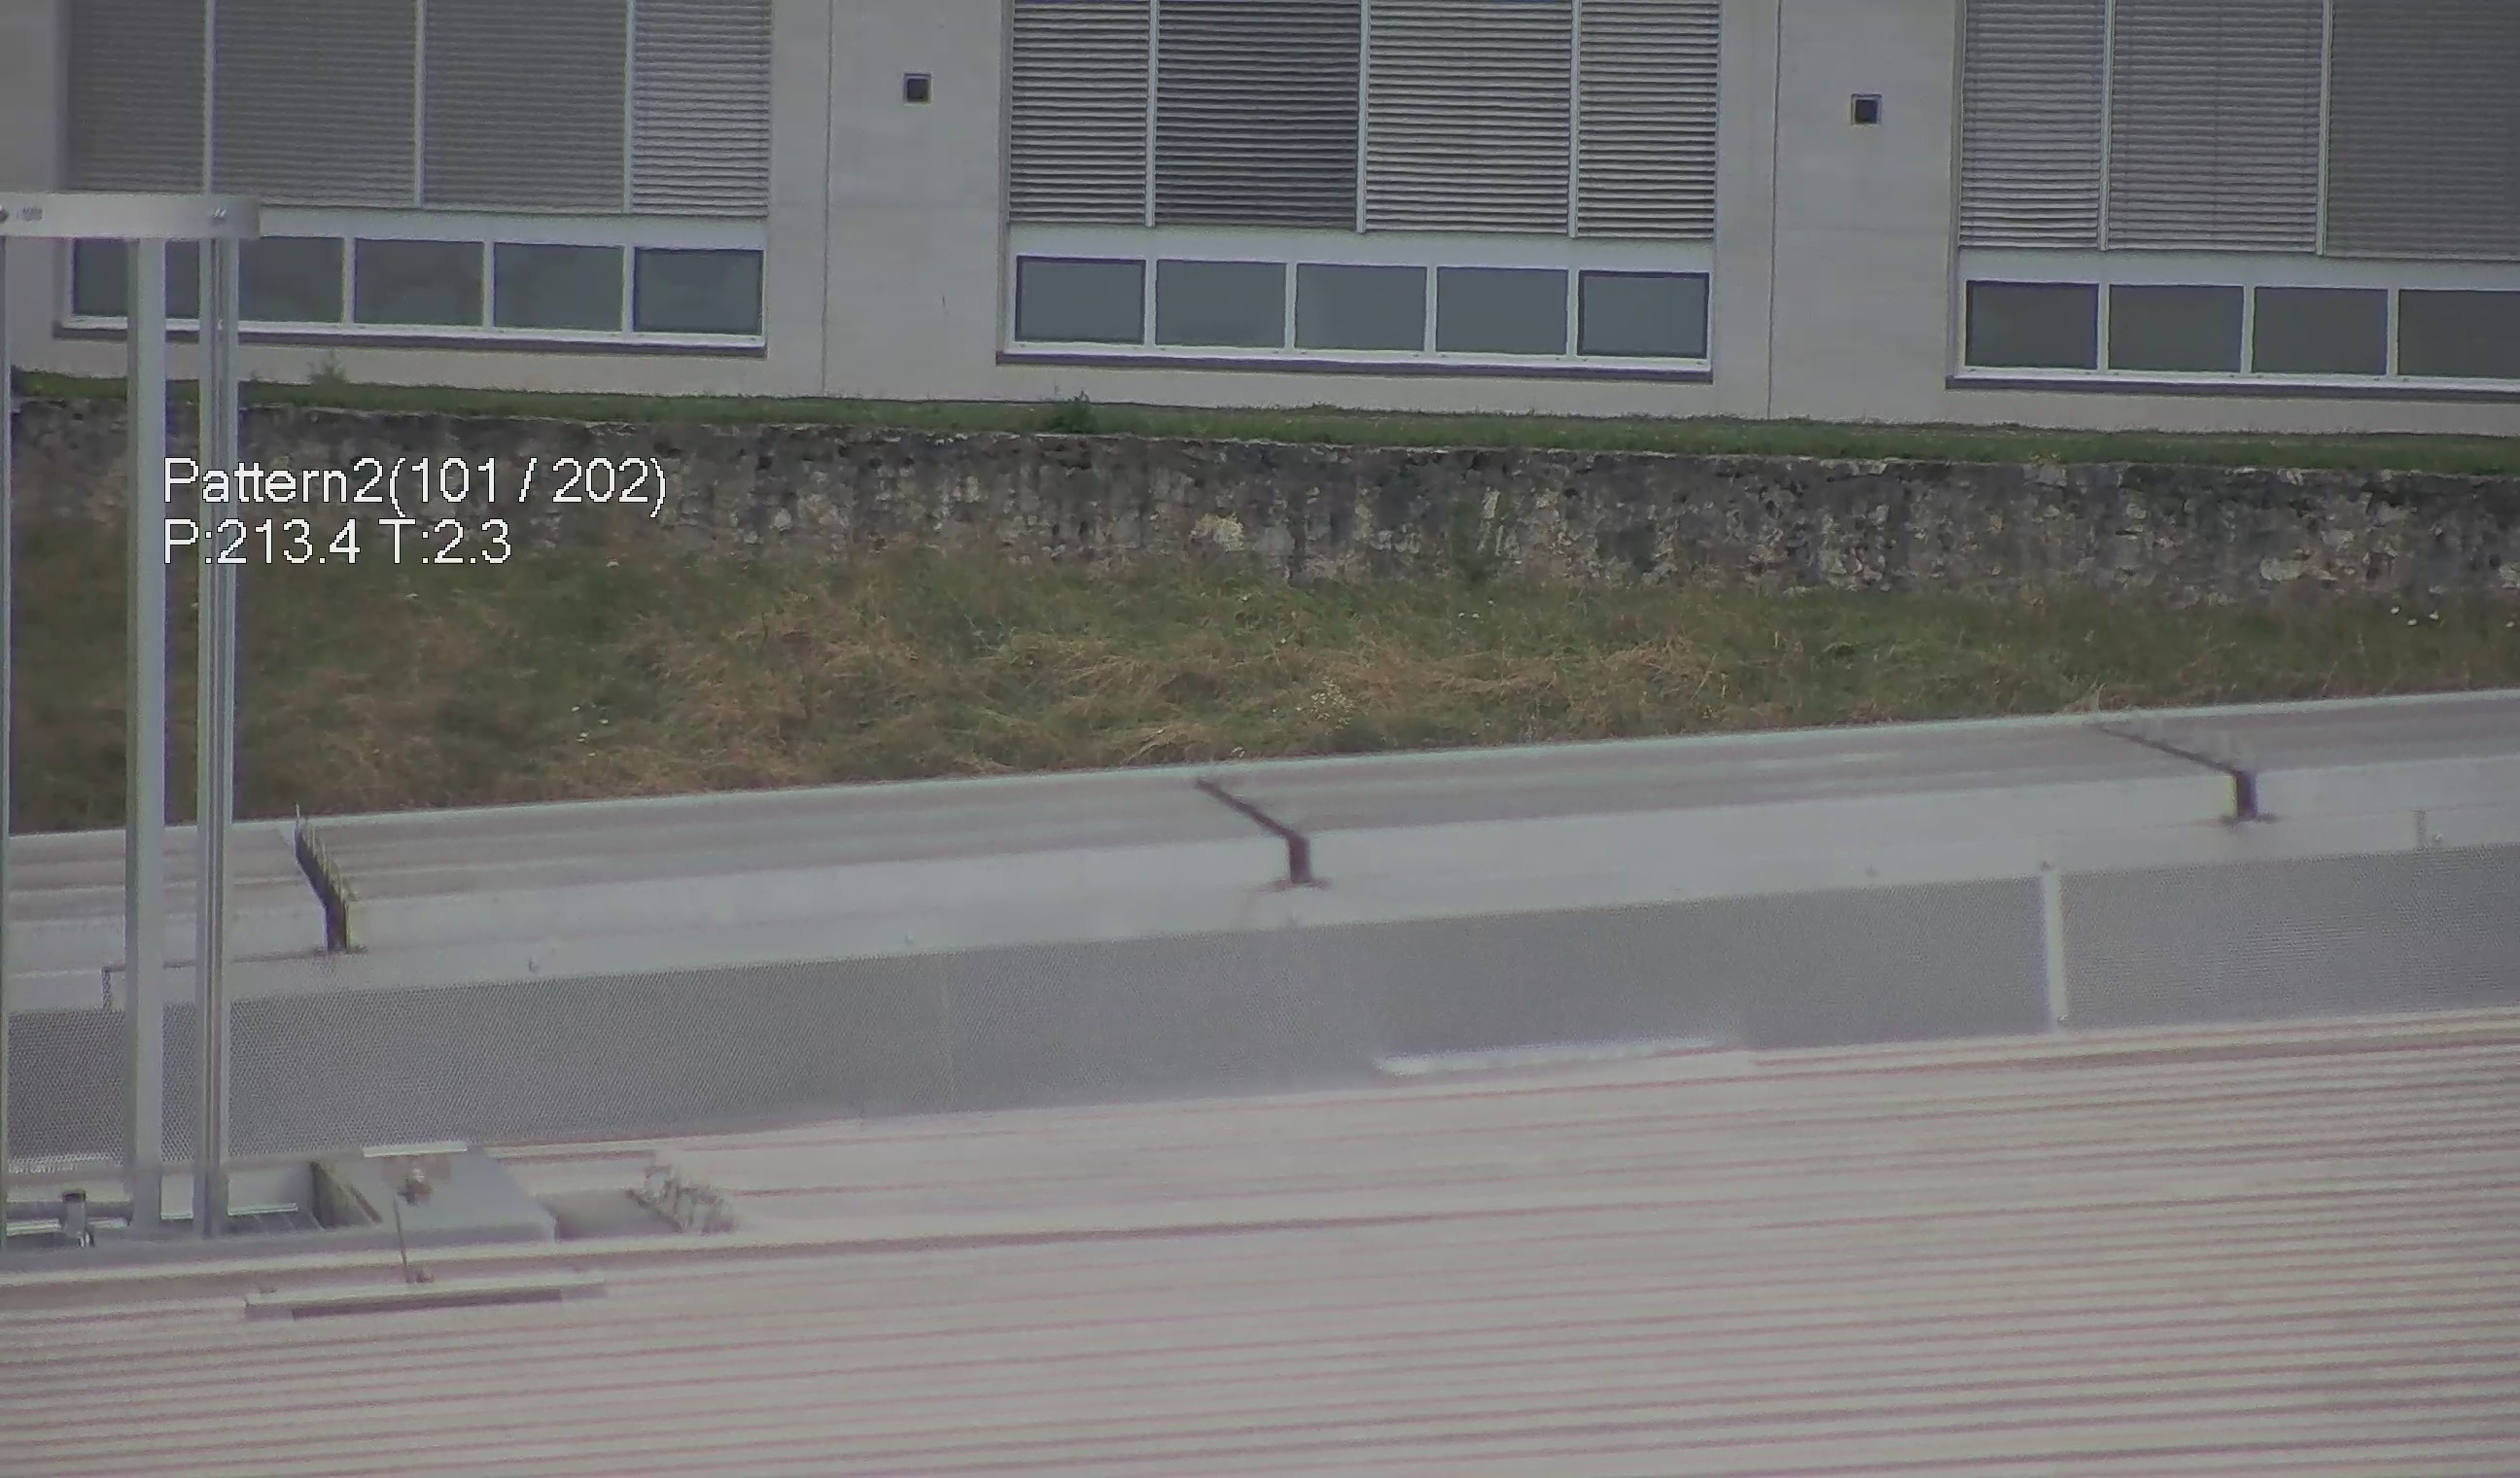Other: (280, 804, 369, 962)
